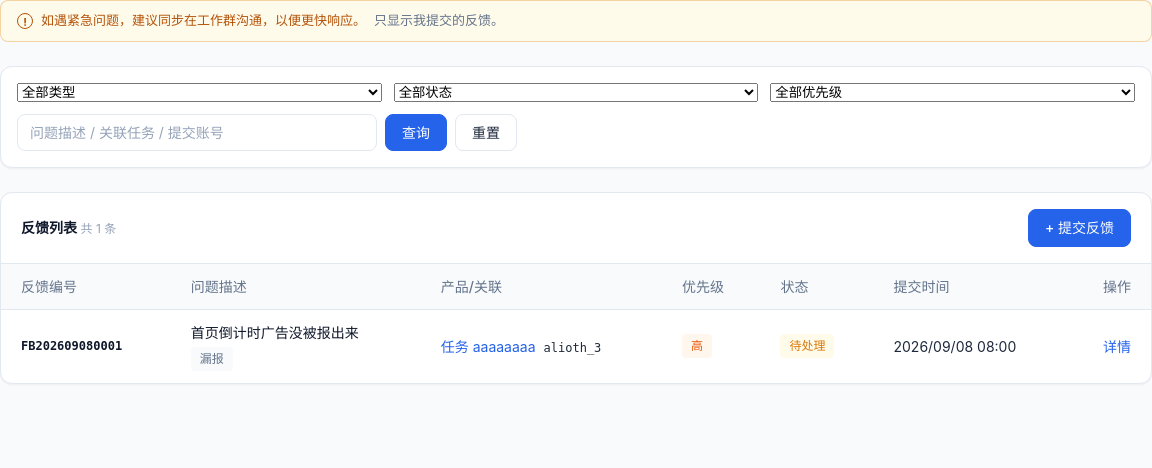
FeedbackView（我的反馈） › 列表用中文展示类型、优先级与状态，展开可见描述
The image size is (1152, 468).
Expected: the table with test id "feedback-table" shows "FB202609080001", [21, 339, 122, 353]
Expected: the table with test id "feedback-table" shows "漏报", [200, 351, 224, 366]
Click the button "详情".
click(1117, 346)  # box [1103, 336, 1131, 357]
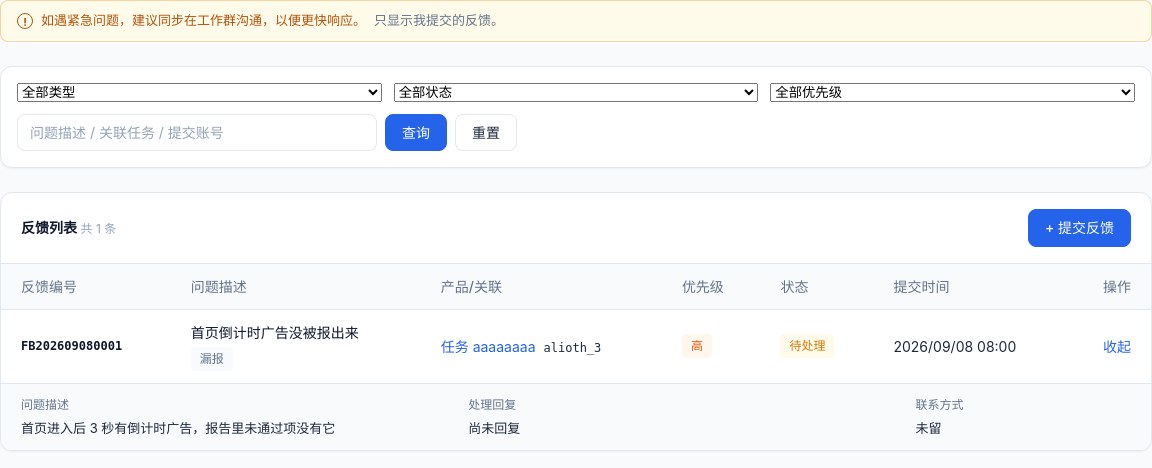
Now the text "倒计时广告，报告里未通过项没有它" is shown, box [21, 420, 335, 436]
Now the text "尚未回复" is shown, box [468, 420, 520, 436]
